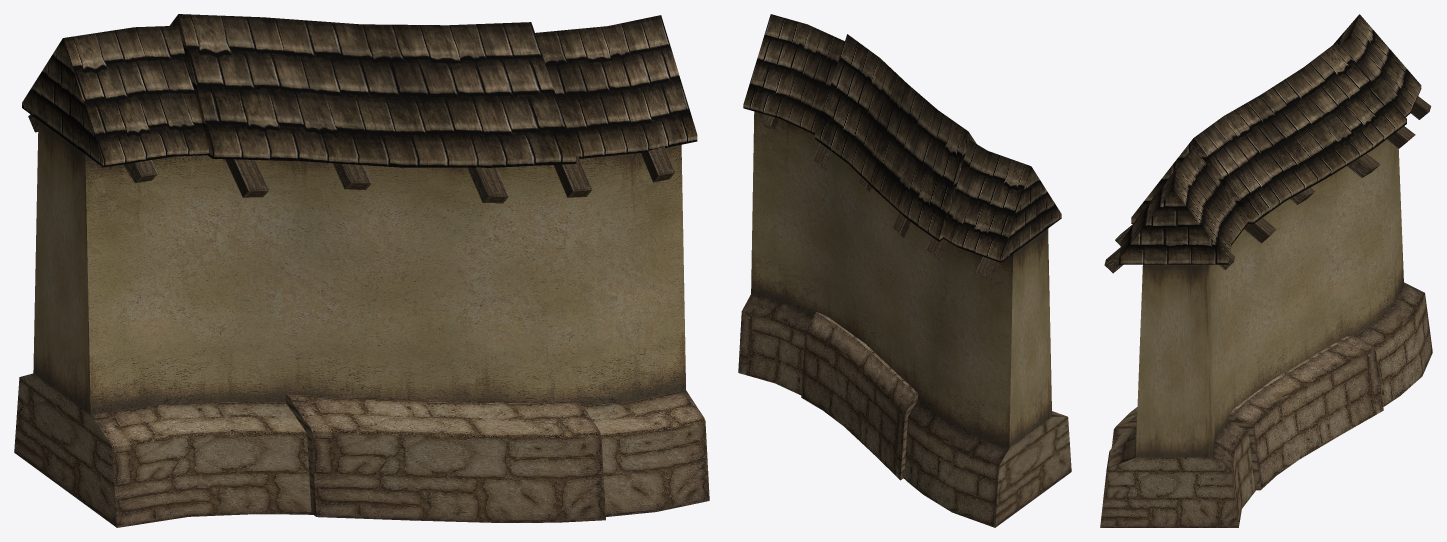
File: Wall_05.fbx
The picture shows the model from 3 angles, left to right: view 1: azimuth 30°, elevation 25°; view 2: azimuth 150°, elevation 25°; view 3: azimuth 270°, elevation 25°; orthographic projection. The views are drawn at different scales.
Visible parts, largest first — view 1: Wall_05; view 2: Wall_05; view 3: Wall_05.
Boxes of the visible parts, left/top/right/bottom form: Wall_05: left=14, top=14, right=709, bottom=527; Wall_05: left=738, top=14, right=1071, bottom=527; Wall_05: left=1100, top=14, right=1432, bottom=527.
Bounding box in the file's own units: 8.51 × 7.95 × 6.88.
